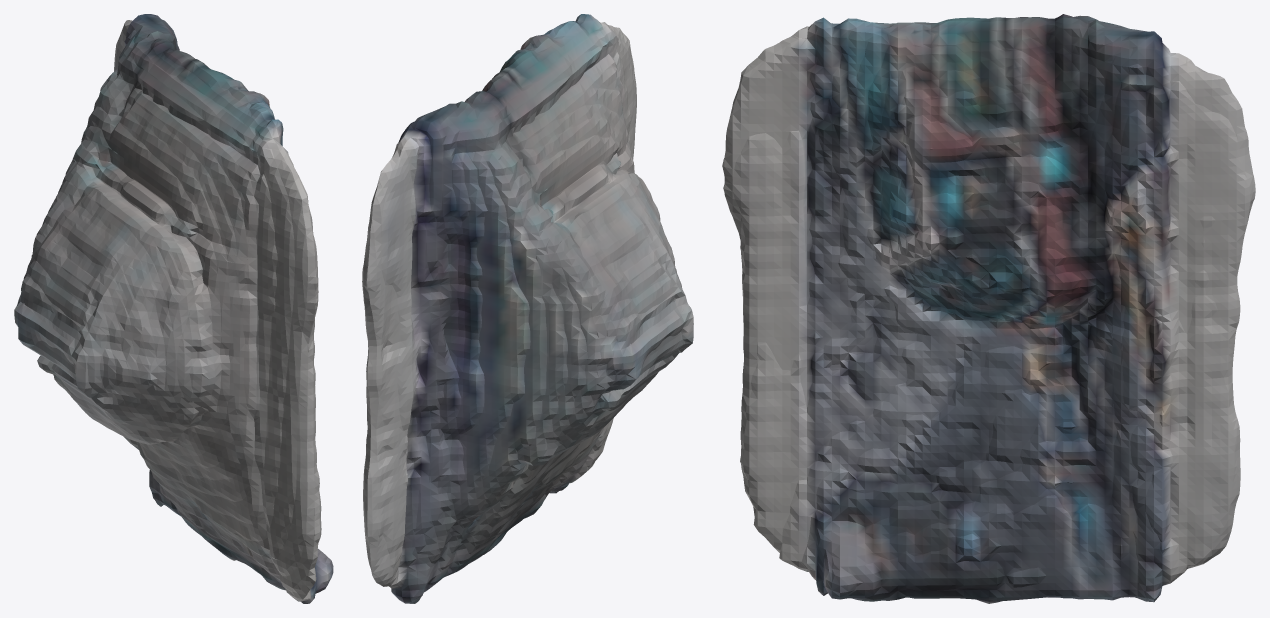
Rendered from vehicle-bus.glb.
3 views of the same model, side by side, from view 1: azimuth 30°, elevation 25°; view 2: azimuth 150°, elevation 25°; view 3: azimuth 270°, elevation 25° (orthographic). The views are drawn at different scales.
Visible parts, largest first — view 1: world; view 2: world; view 3: world.
Part boxes in pixels (<box>): world: <box>14,14,333,603</box>; world: <box>362,14,693,603</box>; world: <box>722,14,1255,603</box>.
Bounding box in the file's own units: 0.4775 × 1.04 × 0.8847.
